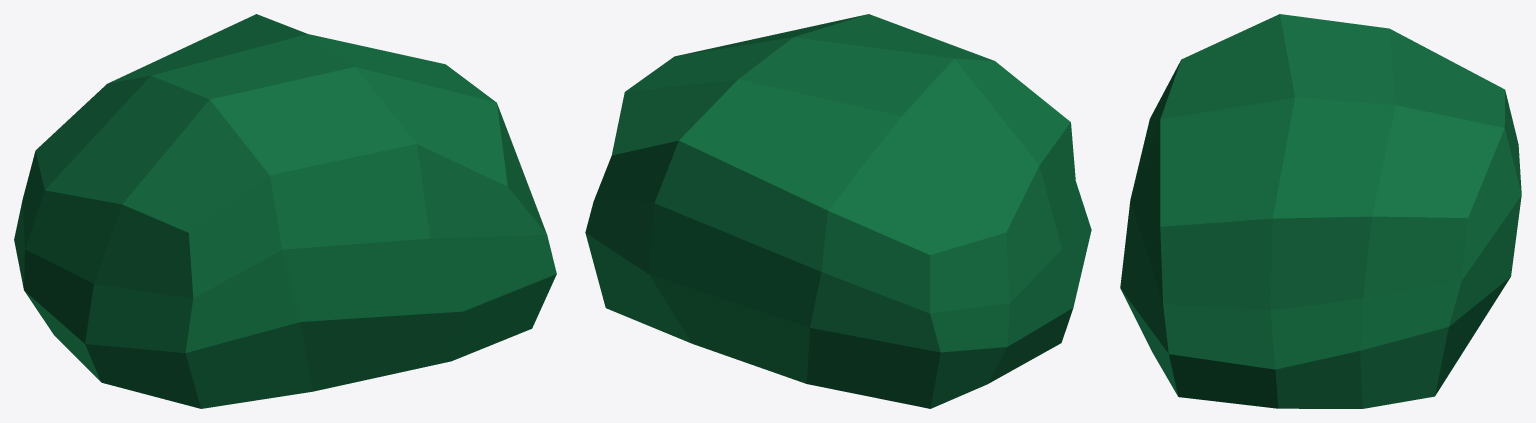
File: BushSmall_FBX.fbx
The picture shows the model from 3 angles, left to right: view 1: azimuth 30°, elevation 25°; view 2: azimuth 150°, elevation 25°; view 3: azimuth 270°, elevation 25°; orthographic projection.
Visible parts, largest first — view 1: Small Bush; view 2: Small Bush; view 3: Small Bush.
Part boxes in pixels (left/top/right/bottom): Small Bush: left=14, top=14, right=556, bottom=408; Small Bush: left=585, top=14, right=1091, bottom=408; Small Bush: left=1120, top=14, right=1521, bottom=408.
Size of the model in its own units: 176 by 99.12 by 142.
